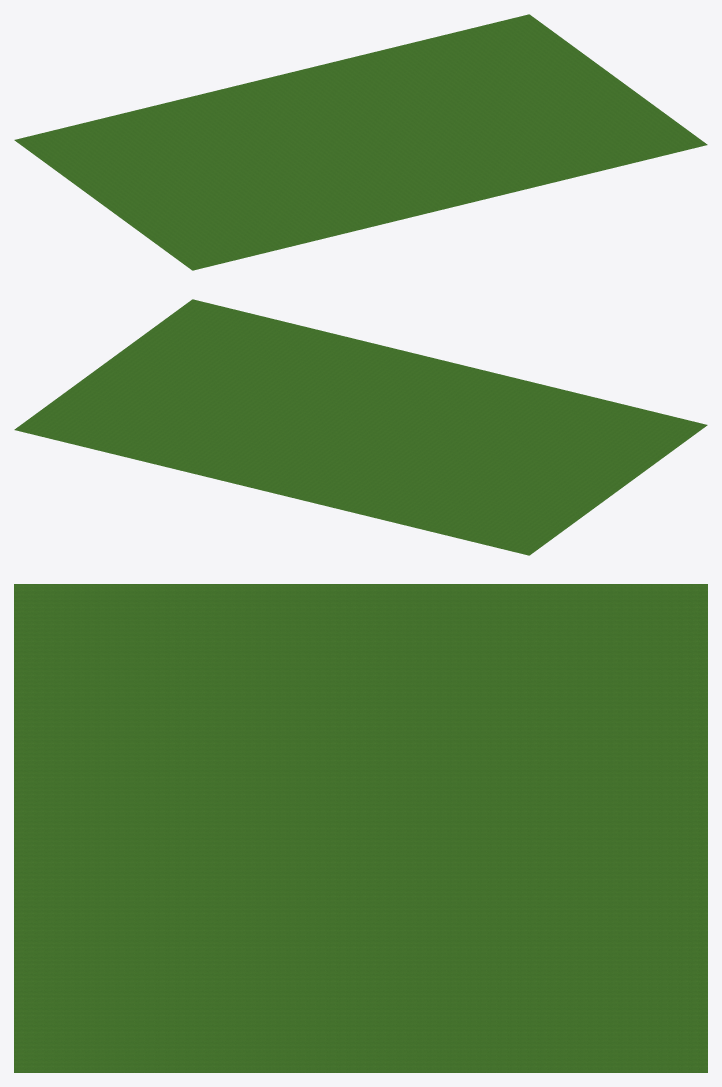
Rendered from Grass.glb.
The picture shows the model from 3 angles, top to bottom: view 1: azimuth 30°, elevation 25°; view 2: azimuth 150°, elevation 25°; view 3: azimuth 270°, elevation 25°; orthographic projection. The views are drawn at different scales.
Visible parts, largest first — view 1: Grass; view 2: Grass; view 3: Grass.
Part boxes in pixels (bbox=[...]): Grass: bbox=[14, 14, 707, 270]; Grass: bbox=[14, 299, 707, 555]; Grass: bbox=[14, 584, 707, 1072].
Size of the model in its own units: 310 by 0 by 186.
1 material, 1 textured.
